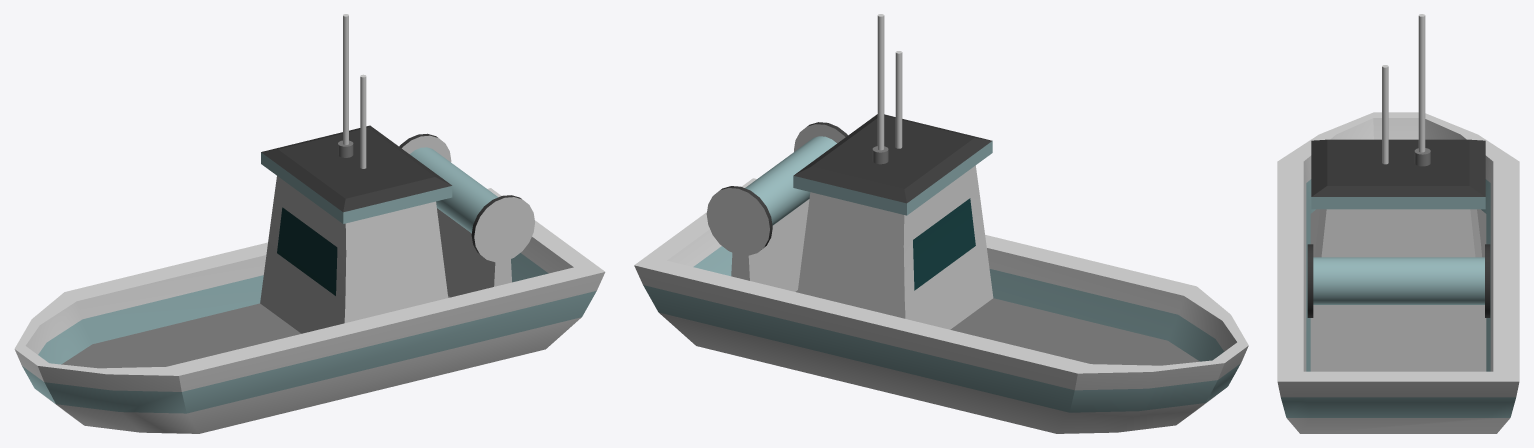
File: Boat1.fbx
3 views of the same model, side by side, from view 1: azimuth 30°, elevation 25°; view 2: azimuth 150°, elevation 25°; view 3: azimuth 270°, elevation 25° (orthographic). The views are drawn at different scales.
Parts seen in each view (by area): view 1: boat1; view 2: boat1; view 3: boat1.
Boxes of the visible parts, x1,y1,x2,y2 form: boat1: (14,14,605,433); boat1: (634,14,1248,433); boat1: (1277,14,1519,433).
Bounding box in the file's own units: 444 × 265 × 169.
